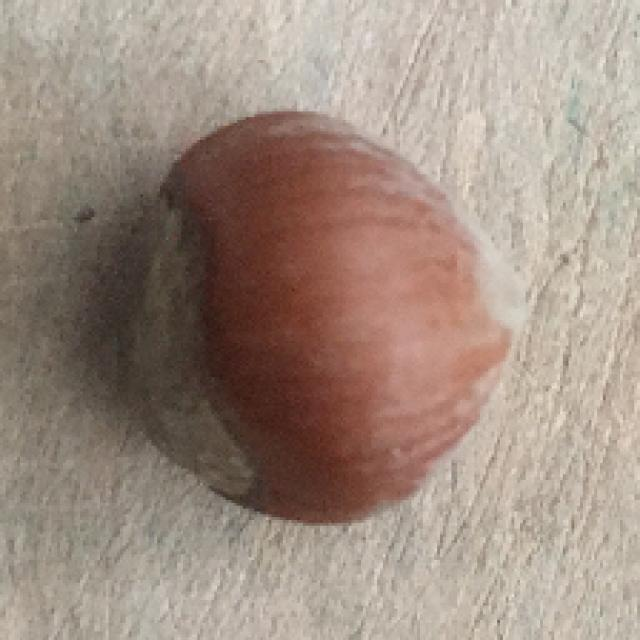qualityHazelnut: (119, 108, 531, 527)
